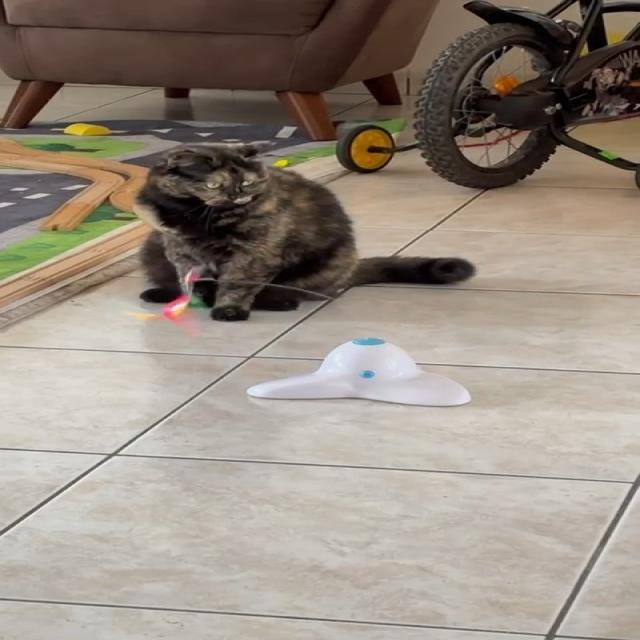authorized: (132, 138, 476, 322)
